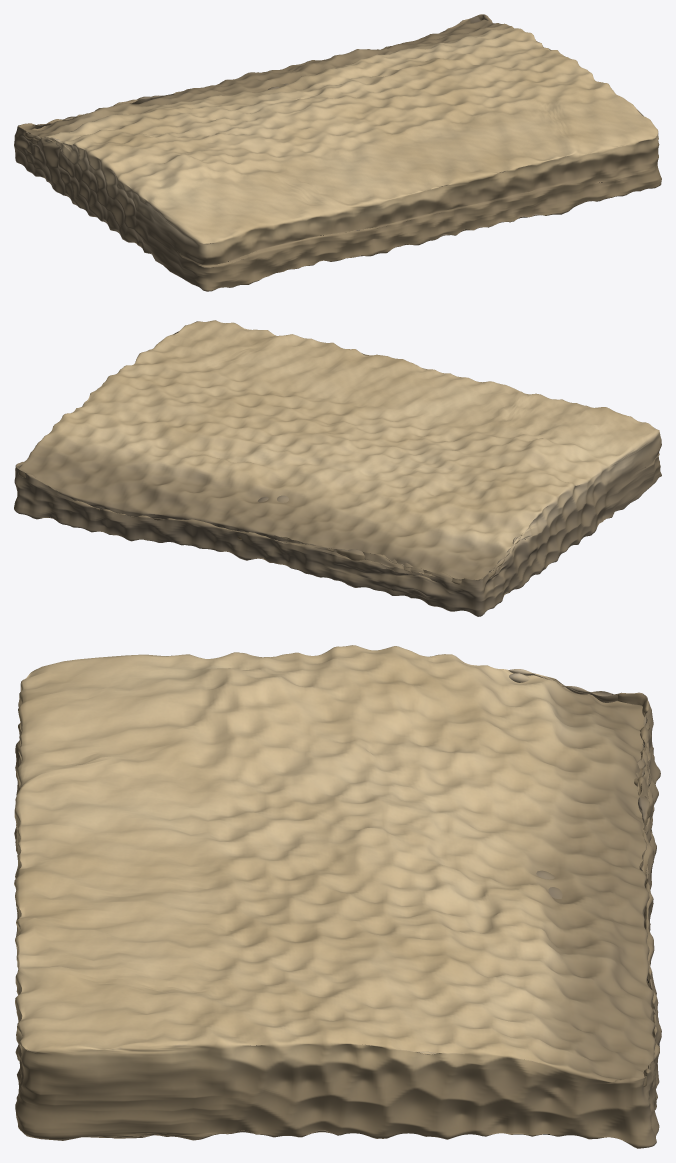
File: GenshinBeach_Sand.fbx
3 views of the same model, one above another, from view 1: azimuth 30°, elevation 25°; view 2: azimuth 150°, elevation 25°; view 3: azimuth 270°, elevation 25° (orthographic). The views are drawn at different scales.
Parts seen in each view (by area): view 1: GenshinBeach_Sand; view 2: GenshinBeach_Sand; view 3: GenshinBeach_Sand.
Boxes of the visible parts, x1,y1,x2,y2 form: GenshinBeach_Sand: (14,14,661,291); GenshinBeach_Sand: (14,320,661,616); GenshinBeach_Sand: (14,645,661,1148).
Bounding box in the file's own units: 18.13 × 3.03 × 12.78.
1 material, 1 textured.
